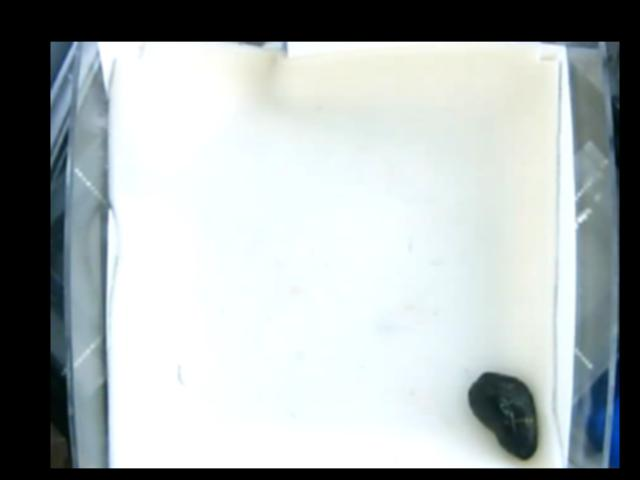Pebble: (467, 372, 538, 464)
